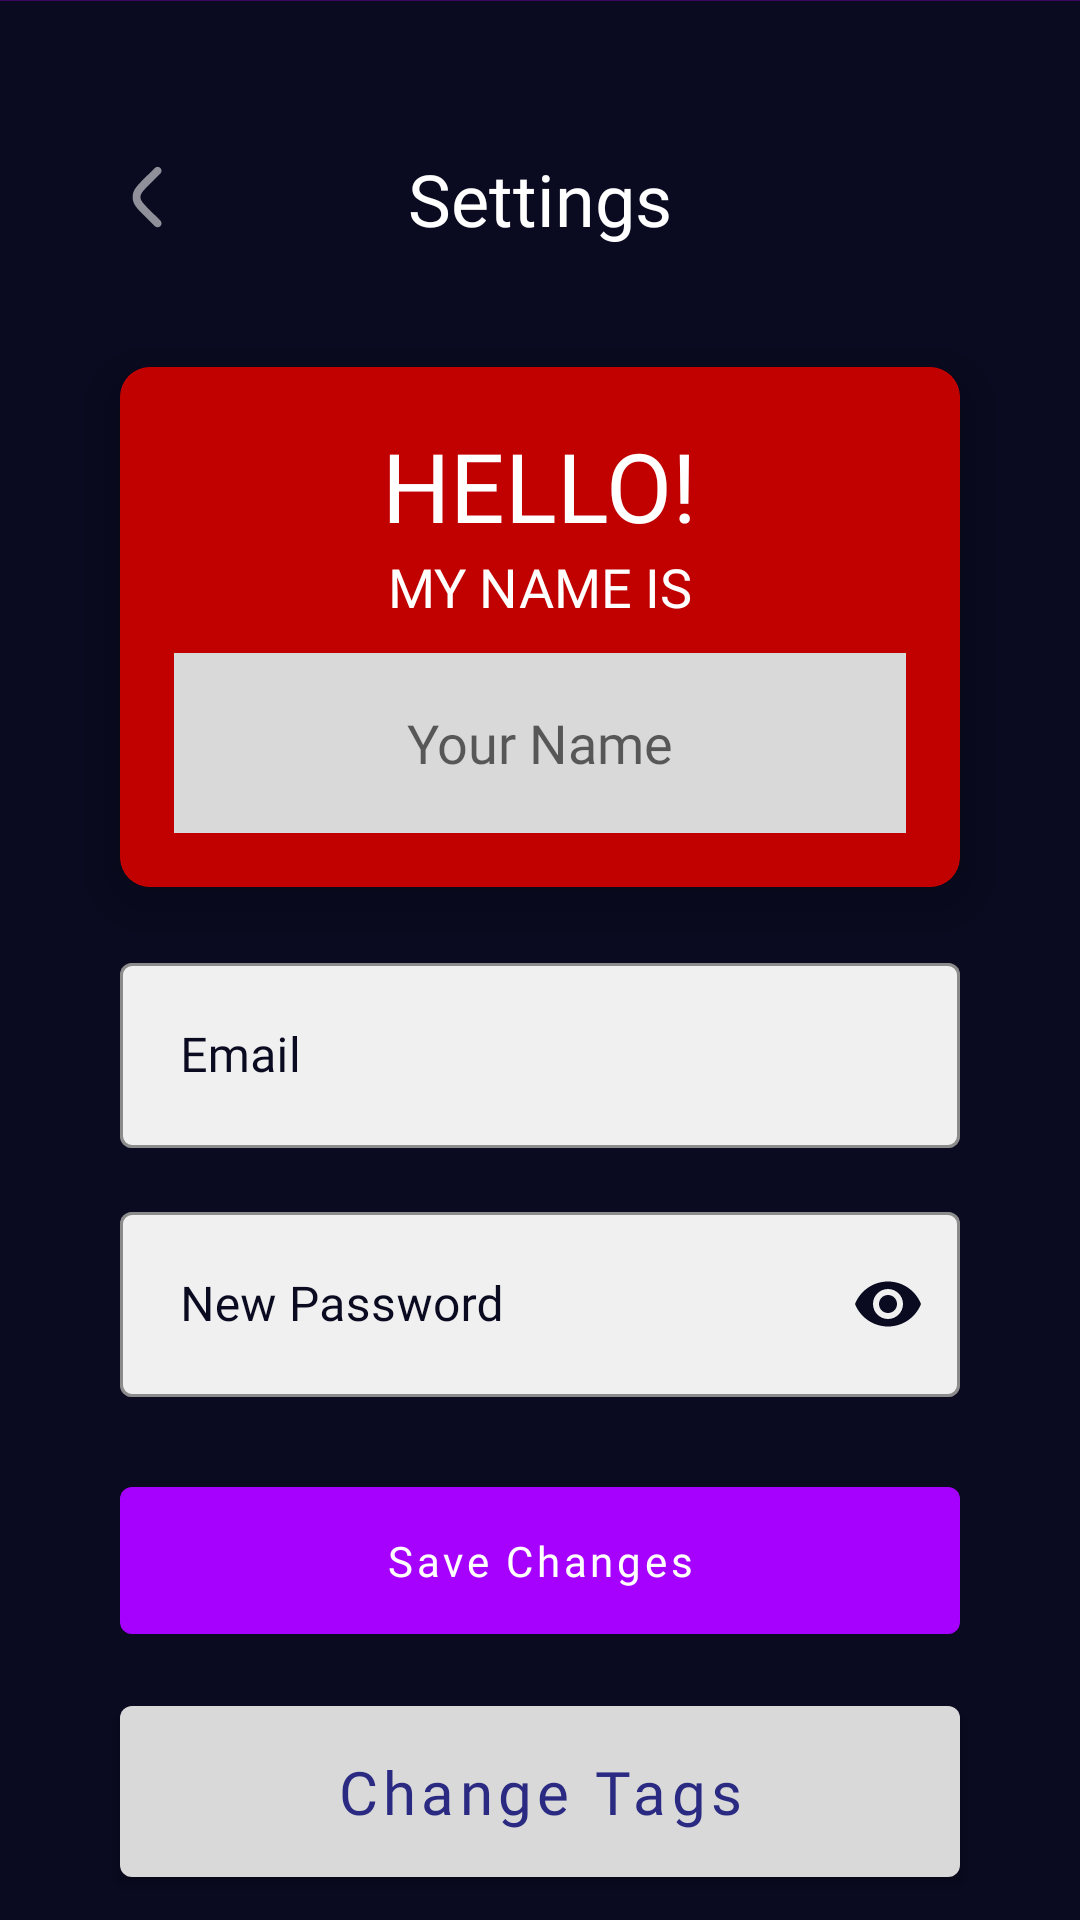

Where icons sit on this 1080px×1920px app screen, as (x1, y1, x2, y2):
back: (132, 167, 162, 228)
